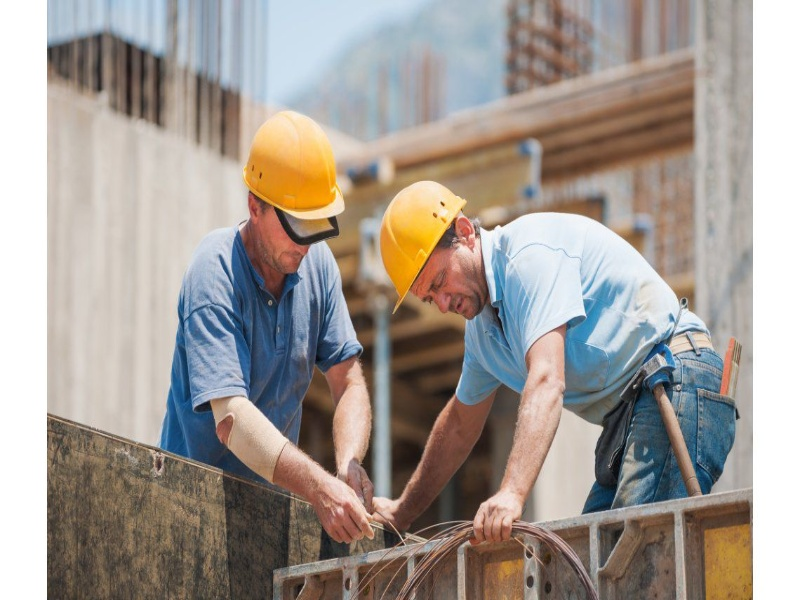casco: (376, 177, 472, 319), (241, 108, 347, 222)
